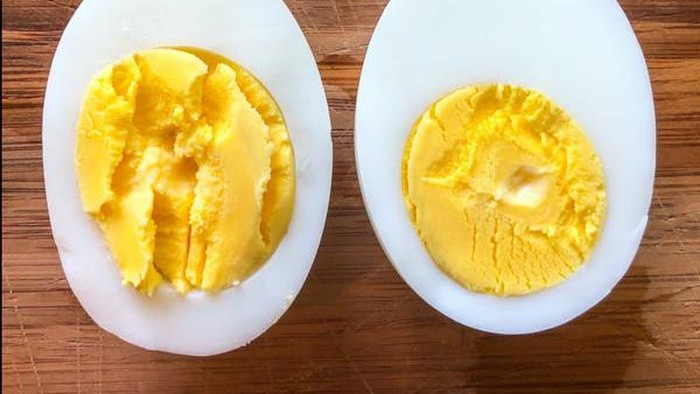Telur: (28, 9, 336, 388), (370, 24, 678, 330)
